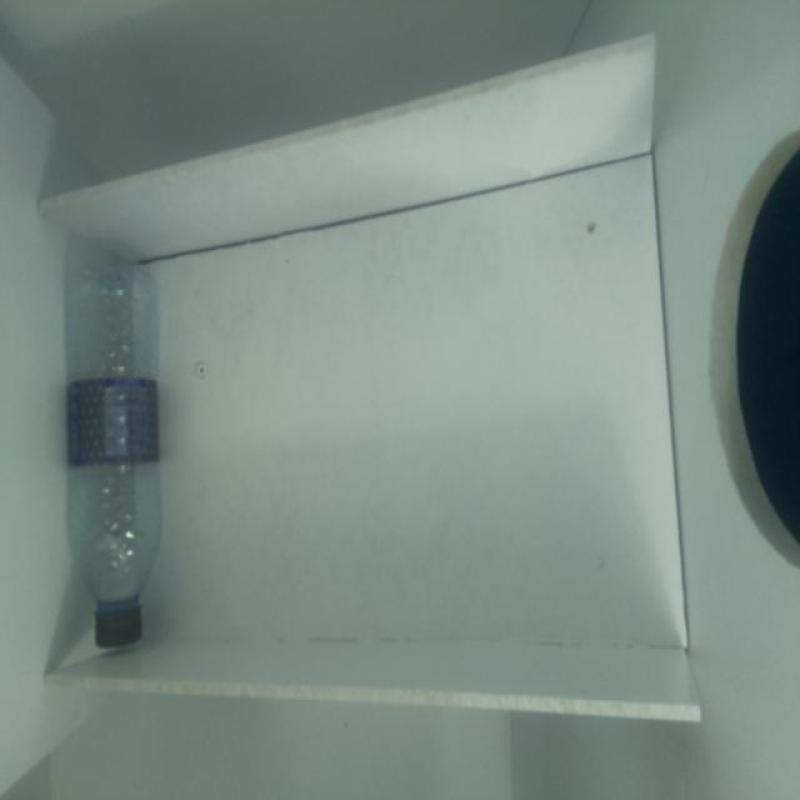botella: (64, 264, 164, 648)
